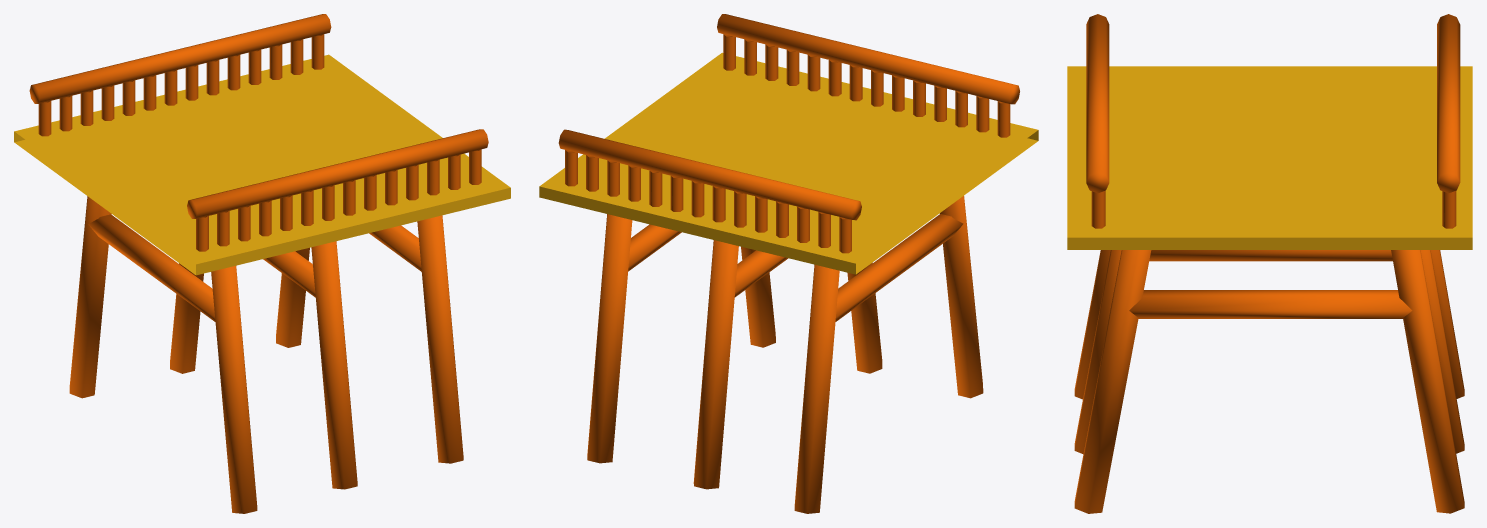
The model's file is bridge_1.fbx.
The picture shows the model from 3 angles, left to right: view 1: azimuth 30°, elevation 25°; view 2: azimuth 150°, elevation 25°; view 3: azimuth 270°, elevation 25°; orthographic projection. The views are drawn at different scales.
Parts seen in each view (by area): view 1: bridge_1; view 2: bridge_1; view 3: bridge_1.
Part boxes in pixels (x1,y1,x2,y2): bridge_1: (14,14,510,513); bridge_1: (539,14,1038,513); bridge_1: (1067,14,1472,513).
Bounding box in the file's own units: 1500 × 1457 × 1500.
